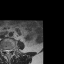CCS_normal: (7, 47, 8, 55)
LFS_normal: (10, 48, 12, 53)
LLS_normal: (8, 48, 10, 54)
RFS_normal: (3, 48, 5, 53)
RLS_normal: (5, 48, 7, 54)
